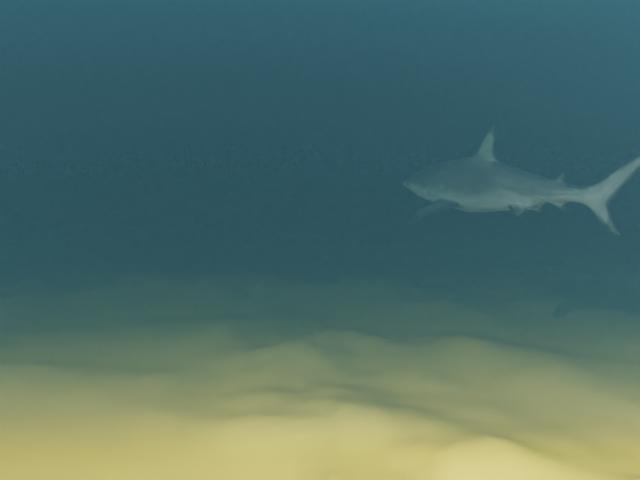Carribean Shark.001: (402, 126, 640, 235)
